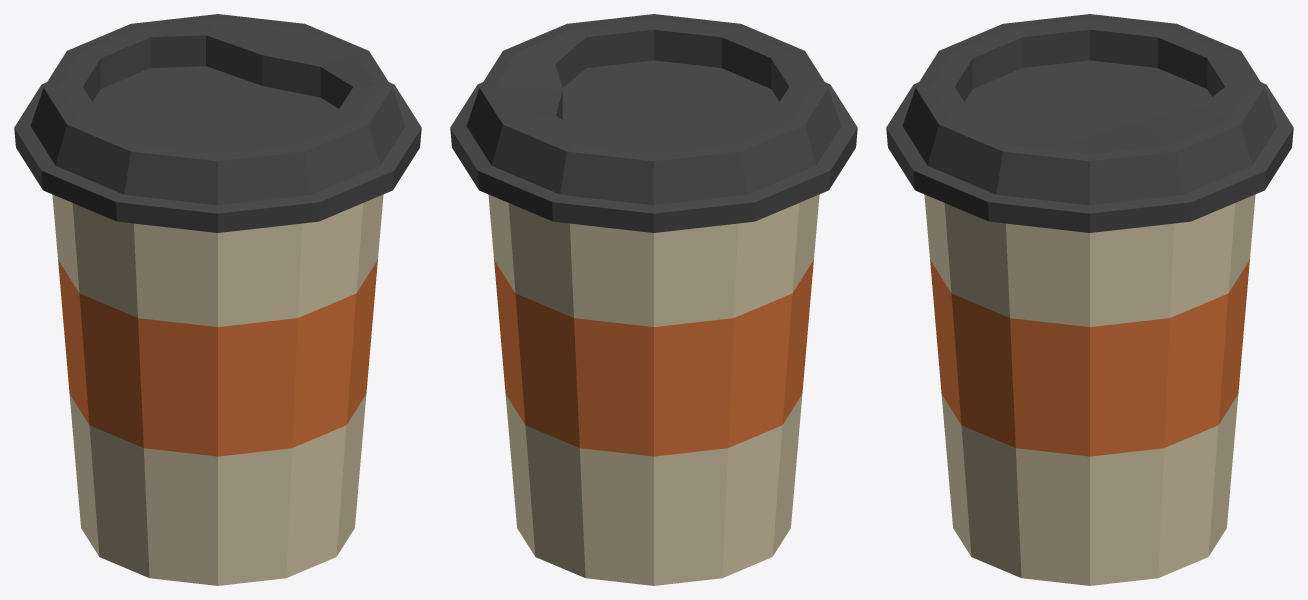
Rendered from Coffee mug with lid.fbx.
3 renders of one model, left to right at view 1: azimuth 30°, elevation 25°; view 2: azimuth 150°, elevation 25°; view 3: azimuth 270°, elevation 25°, orthographic.
Visible parts, largest first — view 1: Cup lid; view 2: Cup lid; view 3: Cup lid.
Boxes of the visible parts, x1=… form: Cup lid: x1=14, y1=14, x2=421, y2=585; Cup lid: x1=450, y1=14, x2=857, y2=585; Cup lid: x1=886, y1=14, x2=1293, y2=585.
Bounding box in the file's own units: 8.32 × 9.96 × 8.32.
